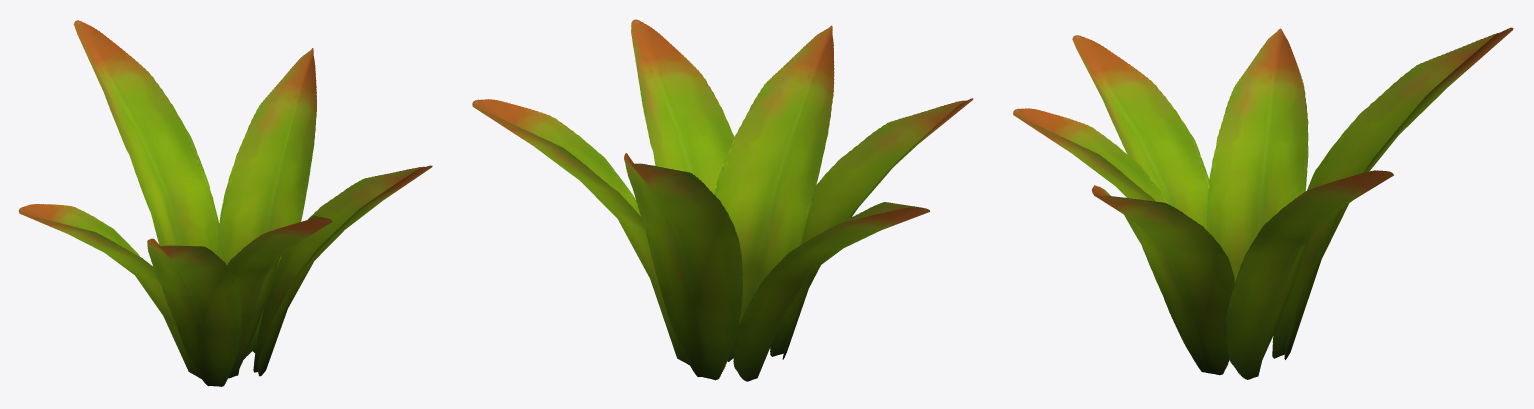
File: plante-1.glb
3 renders of one model, left to right at view 1: azimuth 30°, elevation 25°; view 2: azimuth 150°, elevation 25°; view 3: azimuth 270°, elevation 25°, orthographic. The views are drawn at different scales.
Parts seen in each view (by area): view 1: Plant_1; view 2: Plant_1; view 3: Plant_1.
Boxes of the visible parts, x1=… form: Plant_1: x1=18, y1=20, x2=432, y2=386; Plant_1: x1=472, y1=19, x2=973, y2=381; Plant_1: x1=1013, y1=27, x2=1513, y2=379.
Size of the model in its own units: 1.27 by 1.01 by 1.39.
1 material, 1 textured.
